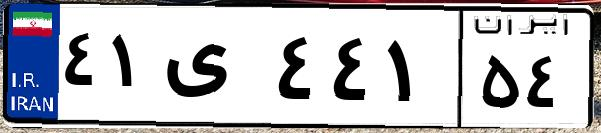1: (385, 28, 445, 110), (110, 28, 158, 98)
4: (270, 28, 330, 110), (330, 28, 385, 110), (57, 26, 110, 100), (525, 38, 570, 115)
5: (475, 38, 525, 113)
ی: (158, 20, 270, 120)
